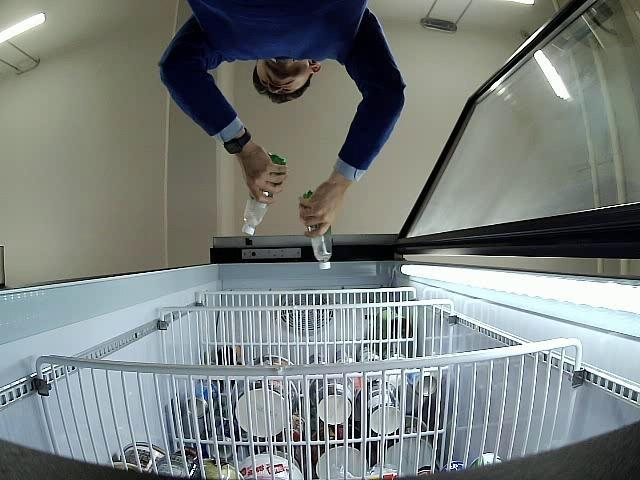18_trevi: (243, 154, 286, 237), (305, 191, 332, 270)
